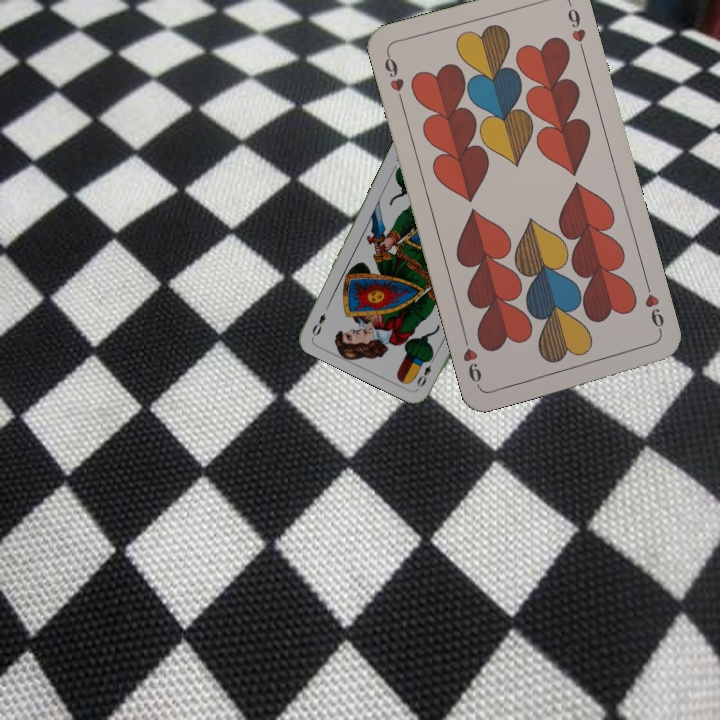EO: (413, 352, 438, 390)
H9: (380, 49, 407, 107), (640, 279, 667, 337)
